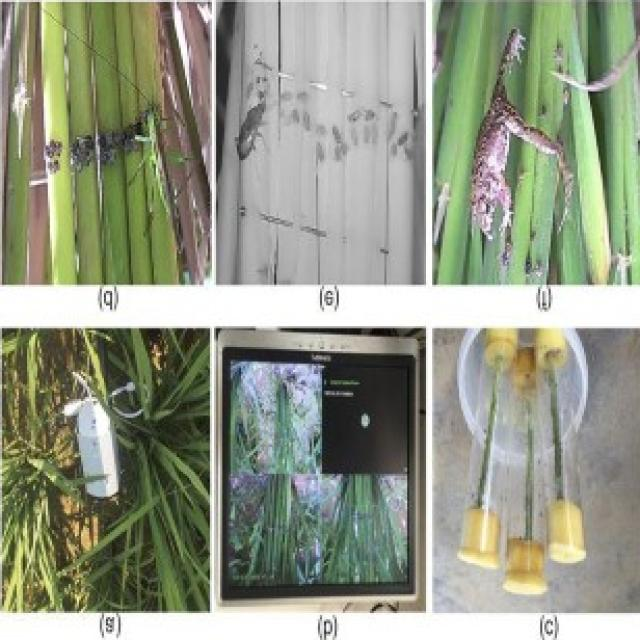brown plant hopper: (472, 33, 569, 239), (71, 127, 143, 172), (239, 94, 262, 162), (44, 143, 58, 175)
